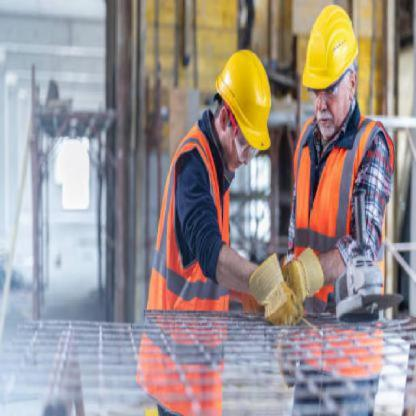glass: (303, 86, 341, 106), (229, 141, 260, 165)
person: (130, 33, 275, 415)
vest-helm: (285, 125, 399, 386), (137, 124, 234, 416)
yellow-helm: (213, 47, 280, 154), (296, 2, 364, 93)
